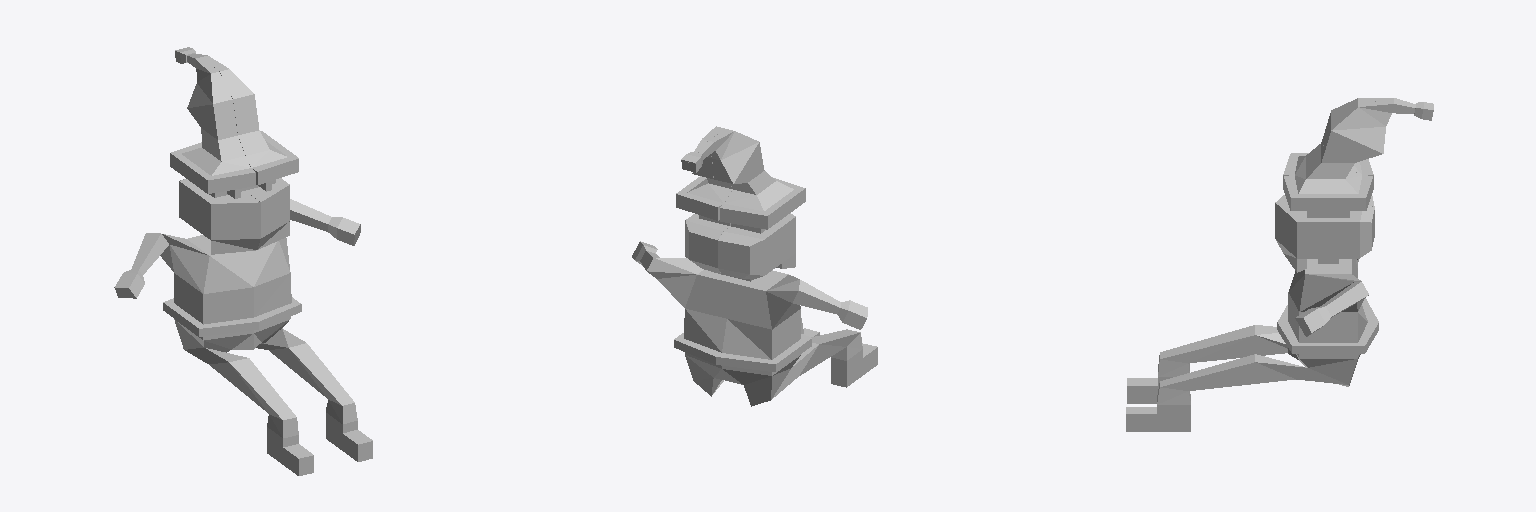
The model's file is Santa-Bend.obj.
3 renders of one model, left to right at view 1: azimuth 30°, elevation 25°; view 2: azimuth 150°, elevation 25°; view 3: azimuth 270°, elevation 25°, orthographic.
Parts seen in each view (by area): view 1: Cube; view 2: Cube; view 3: Cube.
Boxes of the visible parts, <box> form: Cube: <box>114,47,372,475</box>; Cube: <box>632,126,877,406</box>; Cube: <box>1126,98,1433,431</box>.
Bounding box in the file's own units: 3.95 × 4.9 × 4.37.